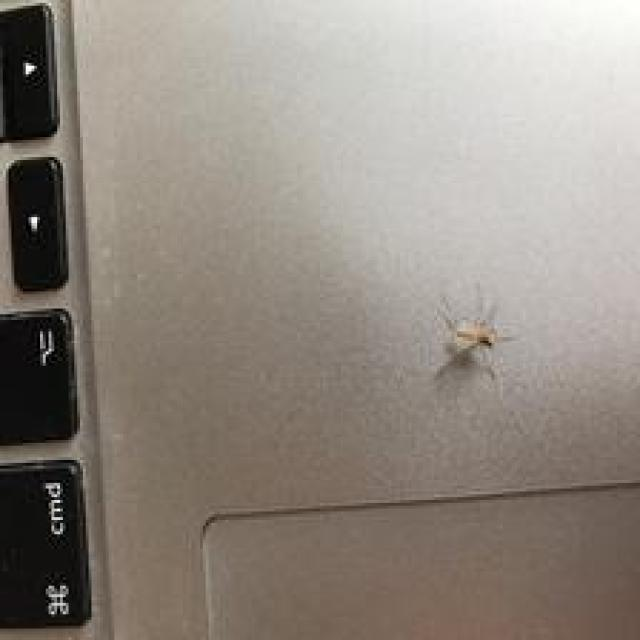Culex: (436, 288, 516, 368)
